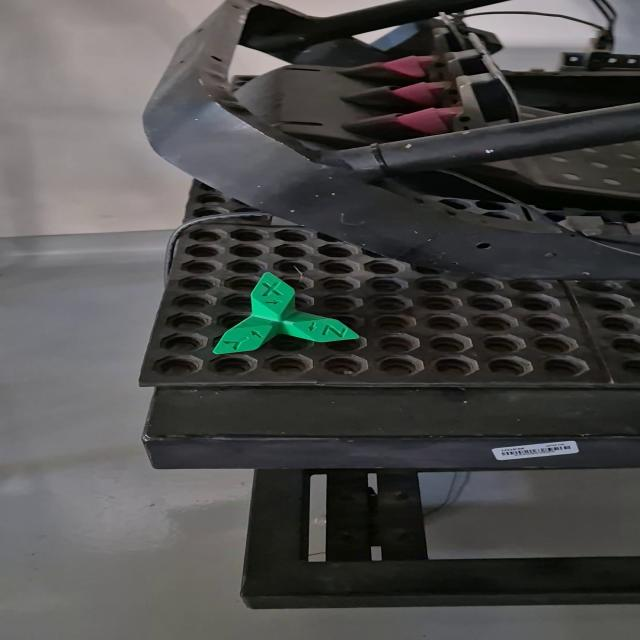objects: (210, 272, 360, 356)
